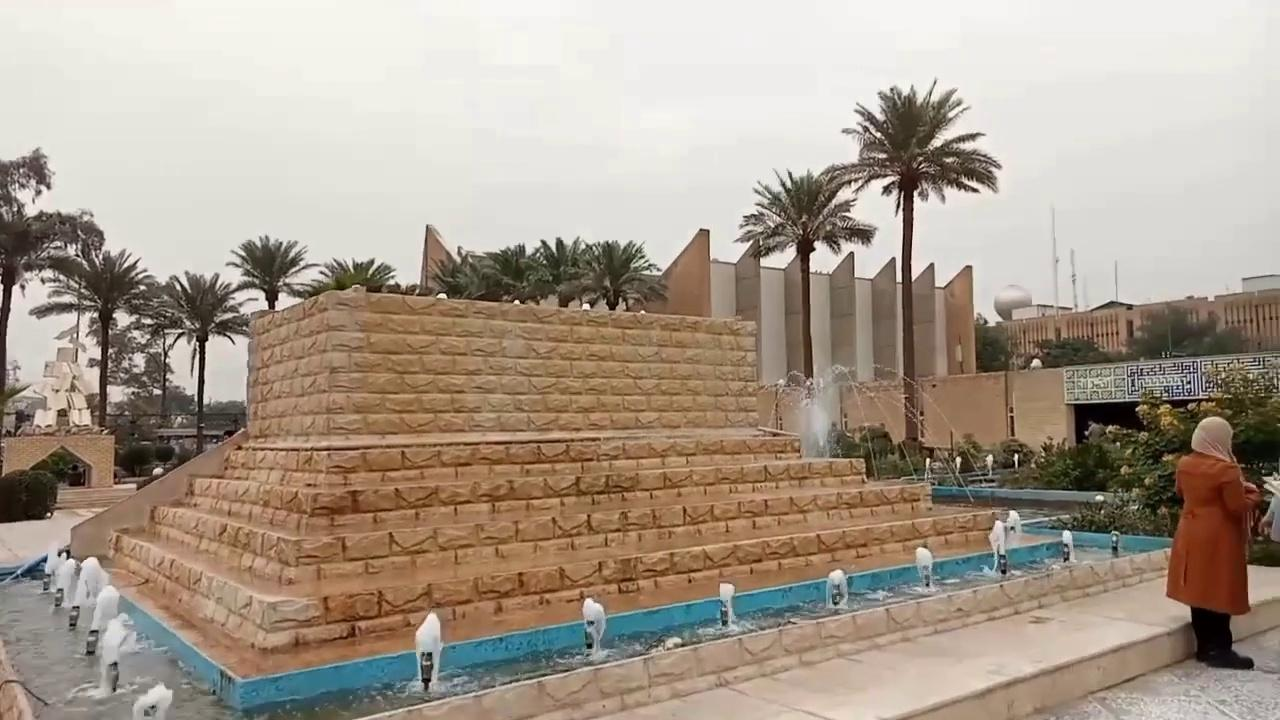fountain: (11, 504, 1183, 717), (412, 610, 443, 692), (580, 596, 606, 655), (987, 519, 1009, 575), (716, 580, 735, 627), (914, 544, 934, 587), (1061, 526, 1073, 562)
person: (1164, 415, 1262, 670)
tree: (819, 77, 1002, 448), (0, 145, 104, 473), (732, 166, 876, 386), (29, 245, 160, 429), (153, 269, 250, 454), (430, 235, 668, 310), (224, 233, 319, 310), (575, 238, 667, 310), (28, 273, 100, 364), (125, 318, 192, 415), (529, 235, 589, 307), (430, 246, 502, 300), (483, 241, 543, 303), (306, 256, 395, 297), (119, 441, 154, 476), (153, 442, 174, 472)
